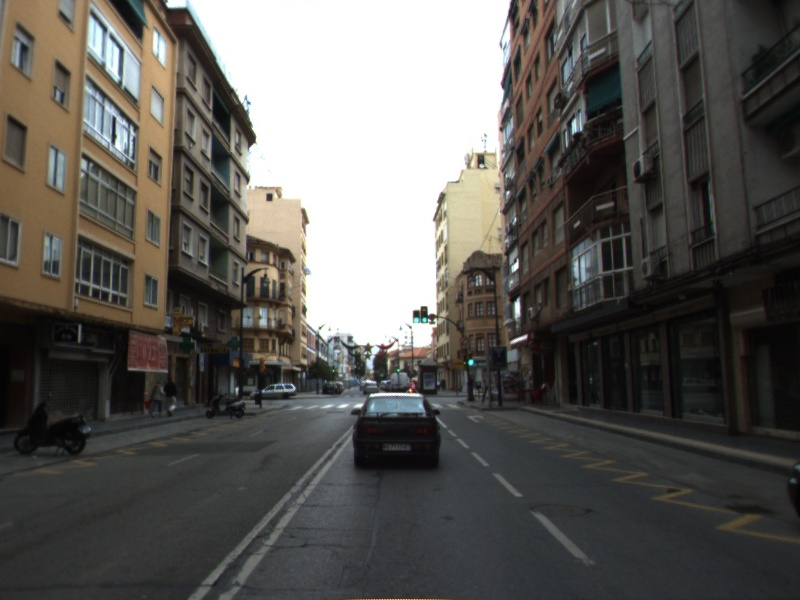RIGHT: (465, 413, 486, 424)
